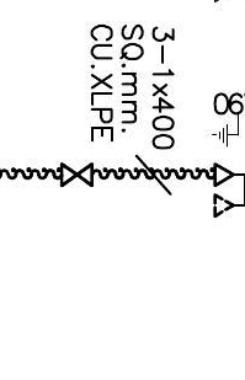terminator_splicing_kits: (59, 162, 94, 188)
